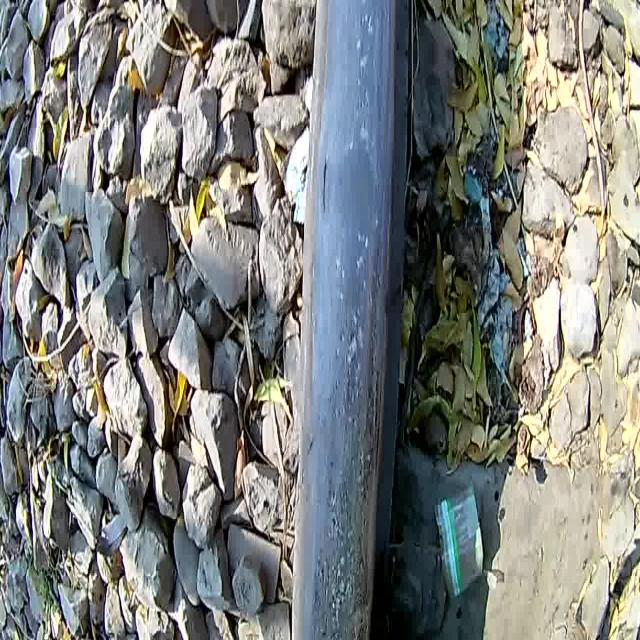Squats: (278, 0, 422, 640)
